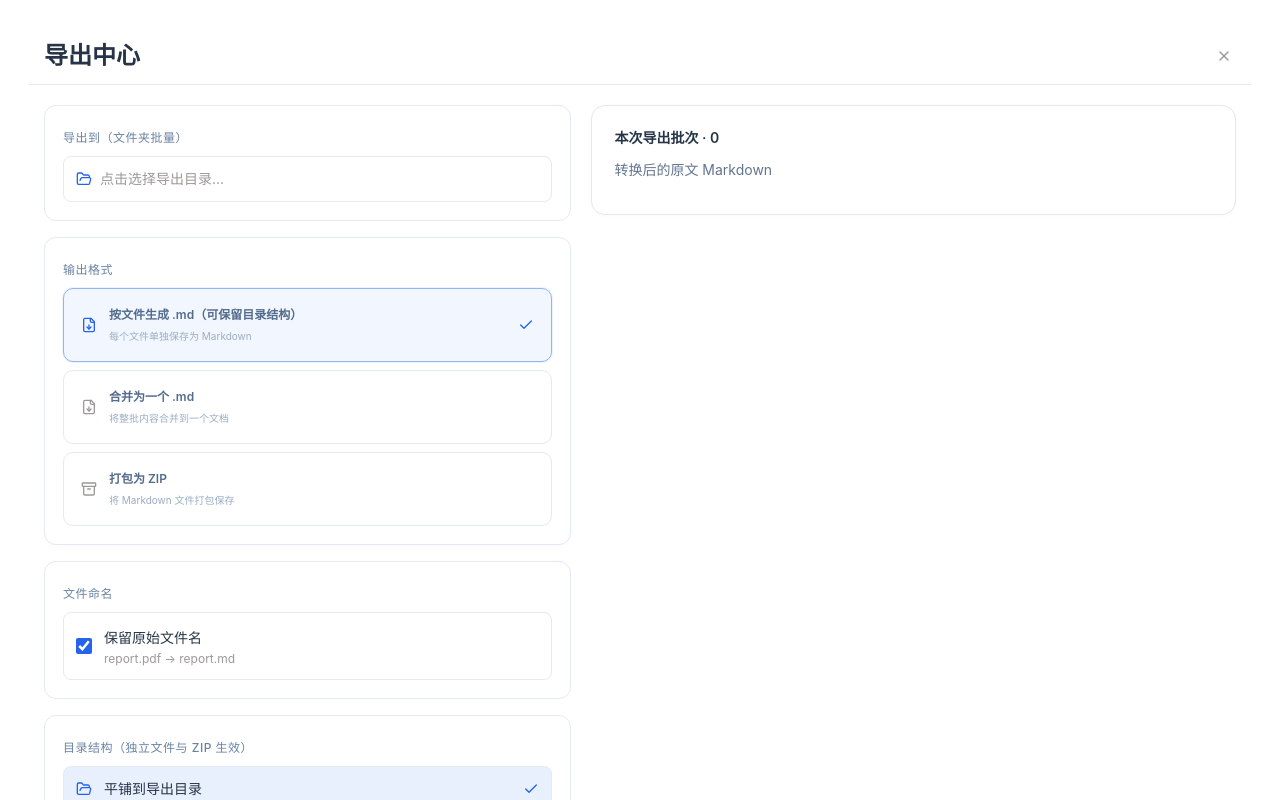
Test: disables irrelevant combined-export options and restores them for ZIP
The image size is (1280, 800).
Click the radio button labelled "合并为一个 .md 将整批内容合并到一个文档" at (88,407), box [80,399,96,415]
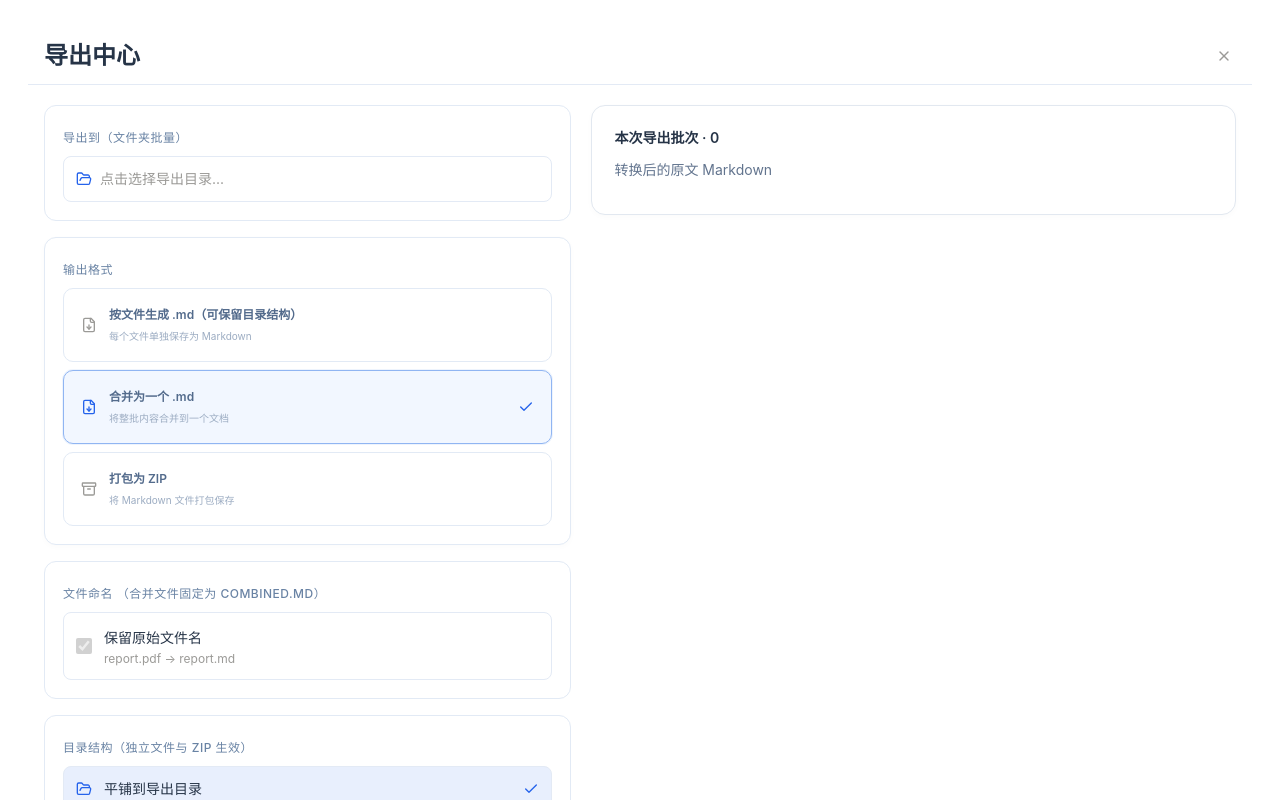
Expected: the radio button labelled "平铺到导出目录" is disabled, [75,781,91,797]
Expected: the checkbox labelled "保留原始文件名 report.pdf → report.md" is disabled, [76,638,92,654]
Expected: the text "（合并文件固定为 combined.md）" is shown, [117,586,326,601]
Click the radio button labelled "打包为 ZIP 将 Markdown 文件打包保存" at (88,489), box [80,481,96,497]
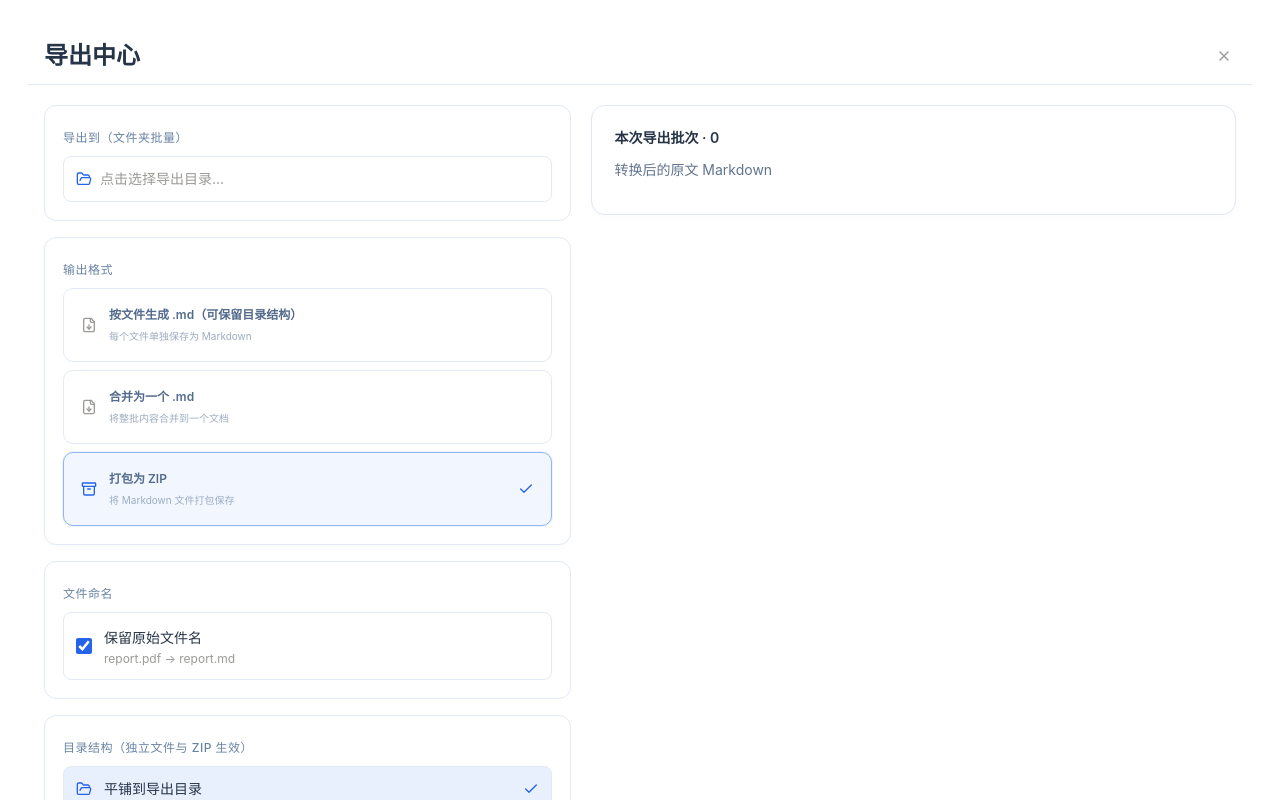
Expected: the radio button labelled "平铺到导出目录" is enabled, [75,781,91,797]
Expected: the checkbox labelled "保留原始文件名 report.pdf → report.md" is enabled, [76,638,92,654]
